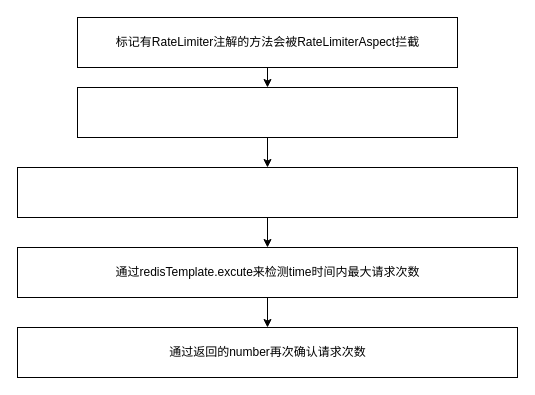
Image size: 535x395. Some labels were removed from this diagram. The box of each missing label's shape, as (x1, y1, x2, y2) in pixels:
获取注解上的时间和次数: (76, 86, 458, 138)
通过拼接{KEY}-{IP/USERID/DEPTID}-{ClassName}-{MethodName}形成rediskey: (16, 166, 518, 218)
